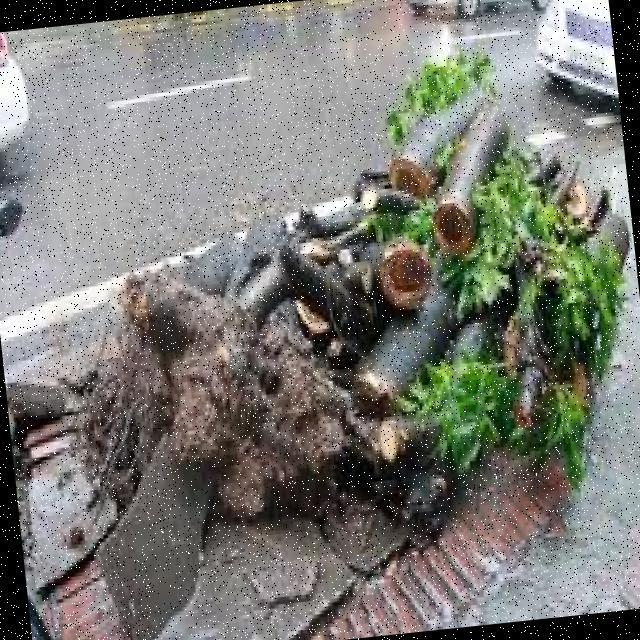fallen_object: (84, 12, 632, 564)
